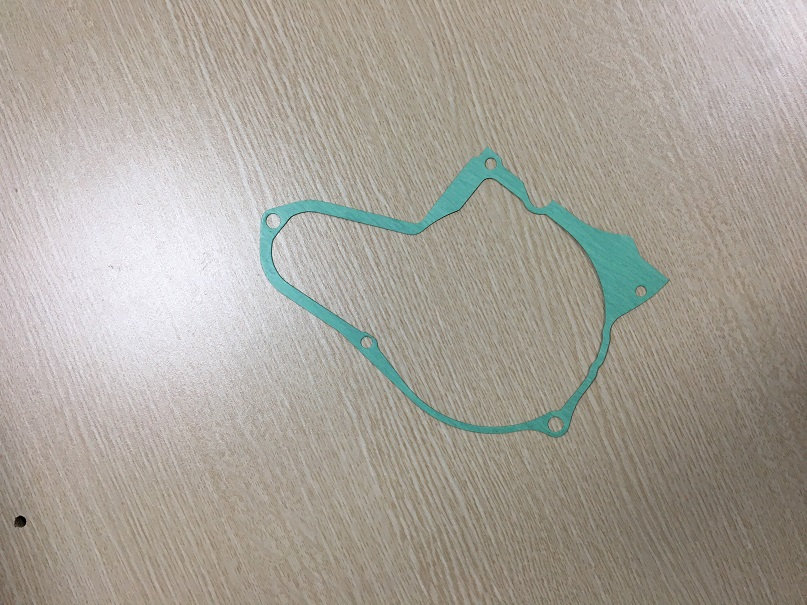type1: (250, 144, 678, 451)
